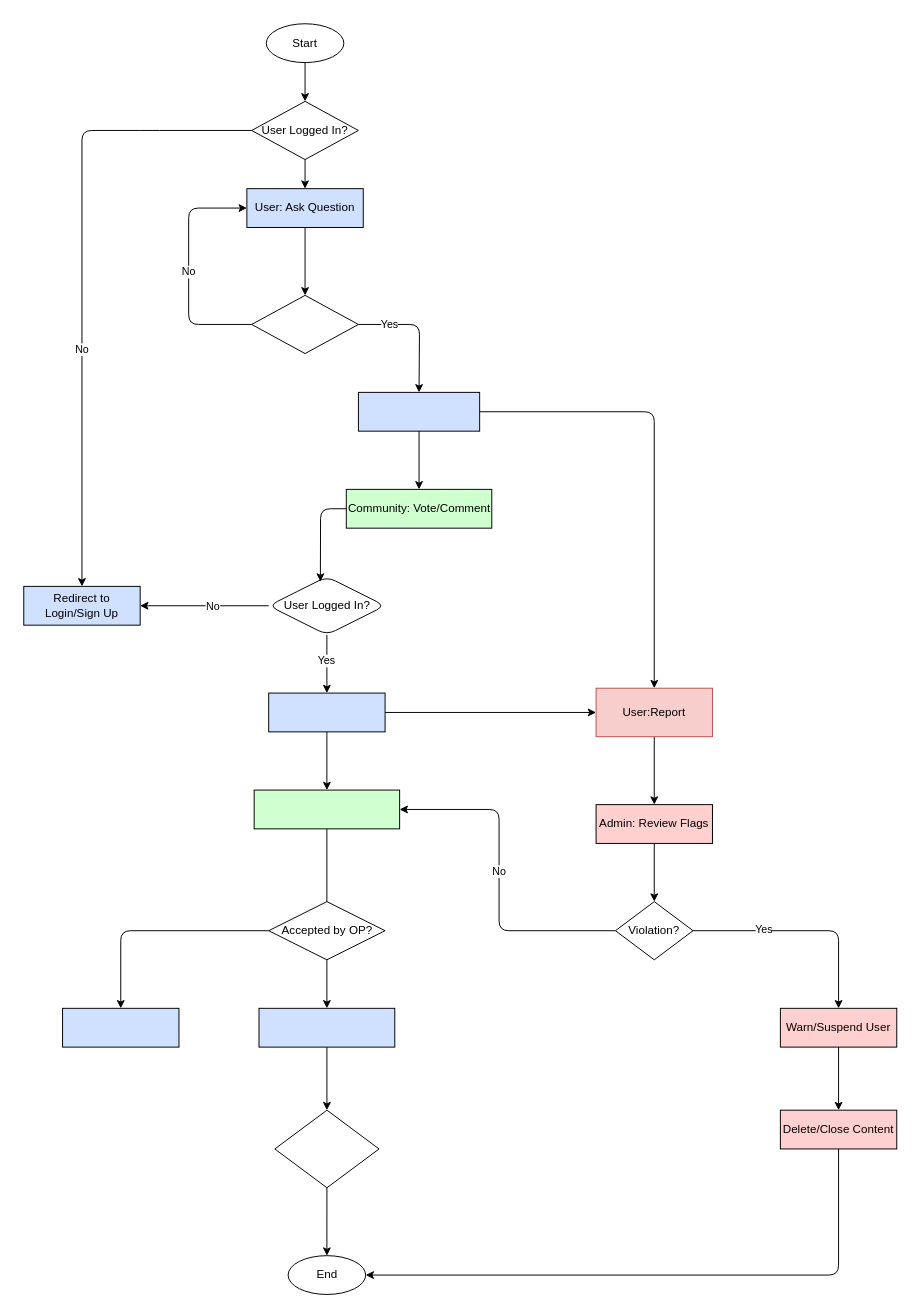
The diagram is 914 pixels wide and 1311 high, and some of its shapes have lost their labels. Each missing label, with the centre of its shape:
Admin:Approve: point (304, 324)
Community: Vote on Answers: point (326, 809)
Mark Solution ✅: point (120, 1027)
Post Question: point (418, 411)
Top Voted Answer Wins: point (326, 1027)
User: Answer Question: point (326, 712)
User:Log Out: point (326, 1148)
